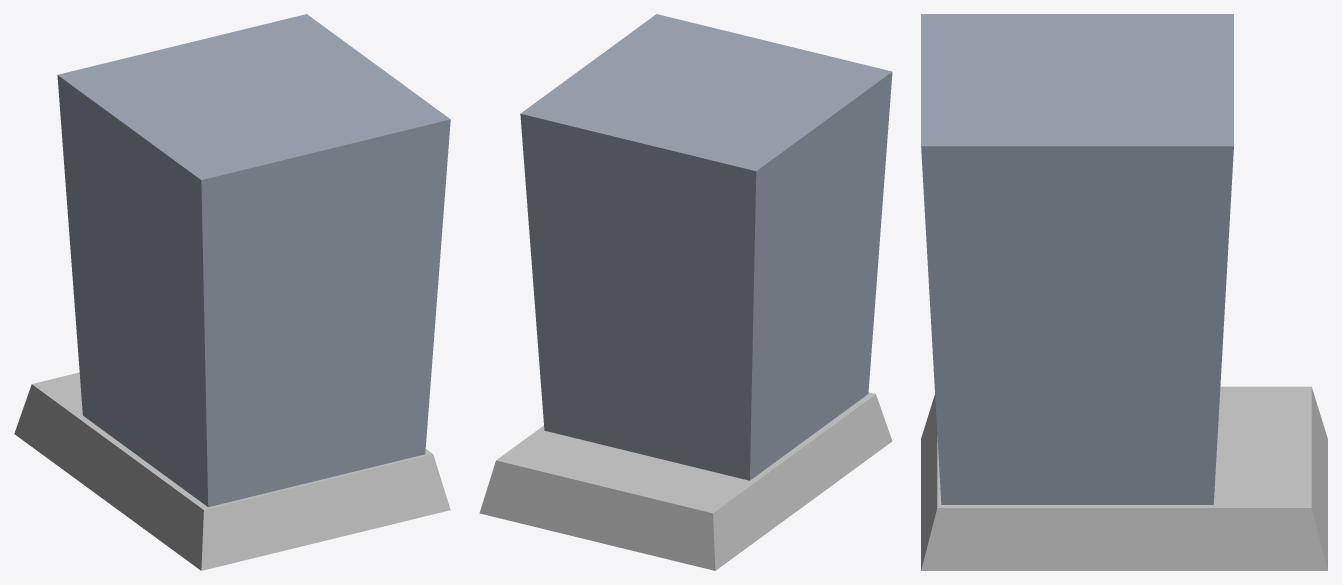
Rendered from animal_alphathrumbo_leg.obj.
3 renders of one model, left to right at view 1: azimuth 30°, elevation 25°; view 2: azimuth 150°, elevation 25°; view 3: azimuth 270°, elevation 25°, orthographic. The views are drawn at different scales.
Parts seen in each view (by area): view 1: animal_alphathrumbo_leg; view 2: animal_alphathrumbo_leg; view 3: animal_alphathrumbo_leg.
Part boxes in pixels (bbox=[...]): animal_alphathrumbo_leg: bbox=[14, 14, 450, 570]; animal_alphathrumbo_leg: bbox=[479, 14, 892, 570]; animal_alphathrumbo_leg: bbox=[921, 14, 1327, 570].
Size of the model in its own units: 0.414 by 0.62 by 0.5382.
